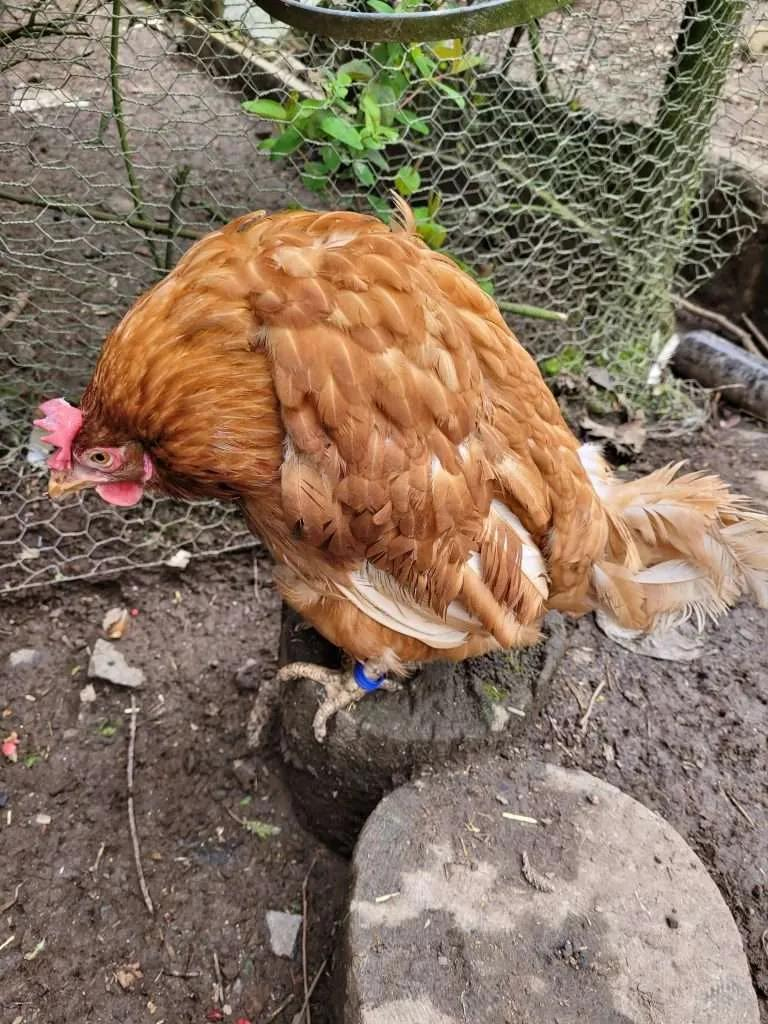AbNormal: (24, 204, 668, 733)
